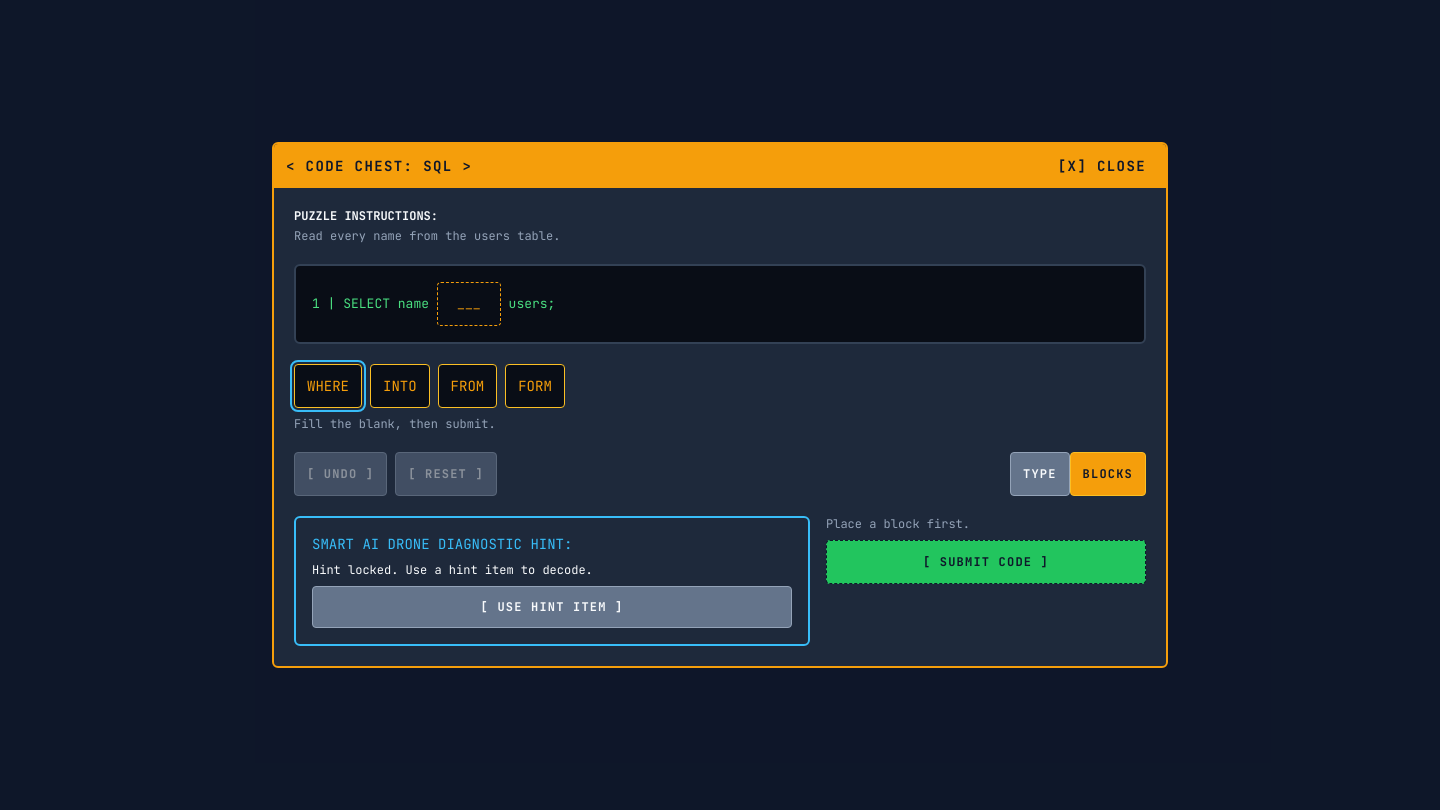
Scenario: ChallengeTerminal: Blocks mode, Undo and Reset › Ctrl+Z outside the text box runs Undo
Click the button "WHERE".
click(328, 386)  # box [294, 364, 362, 408]
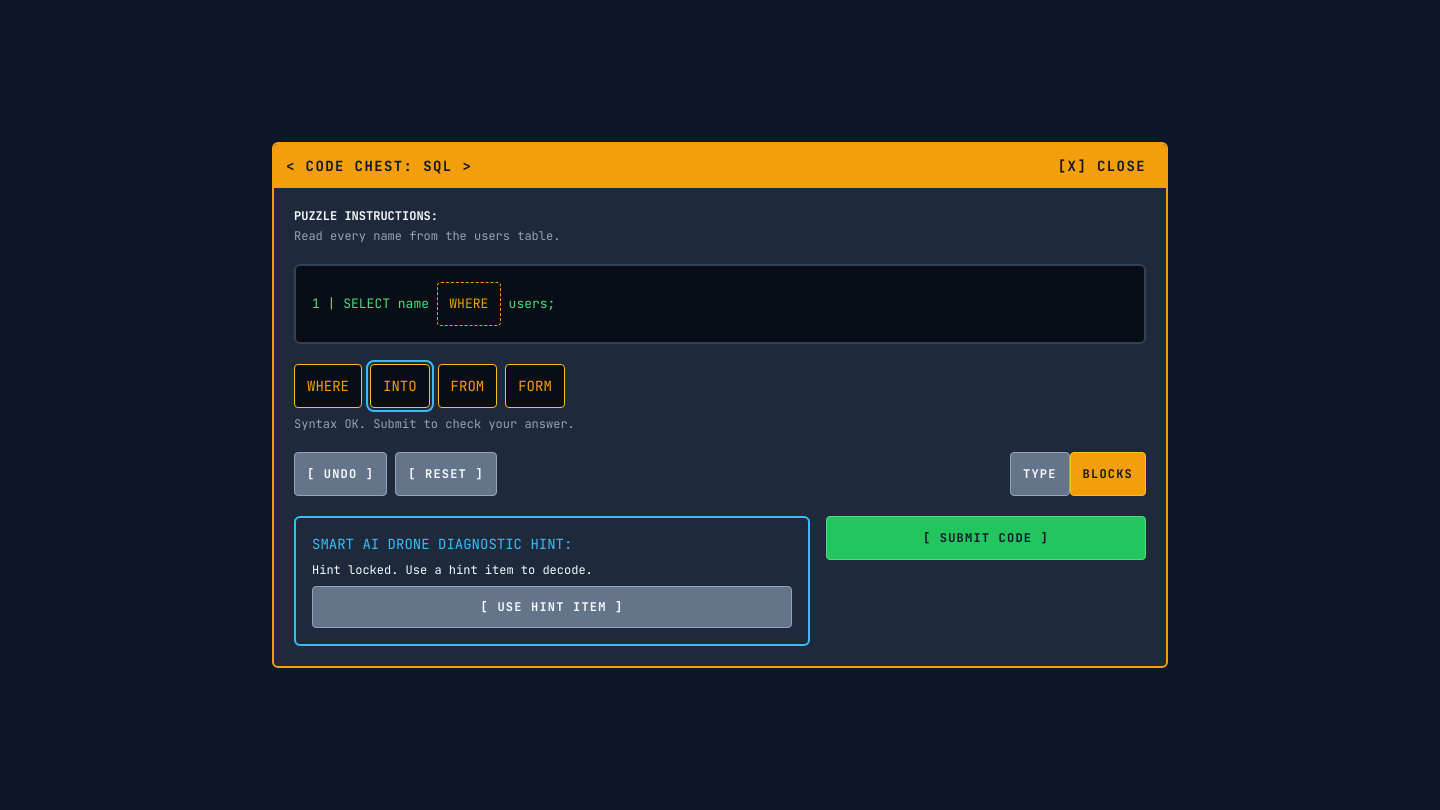
Type keys "{Control>}z{/Control}"
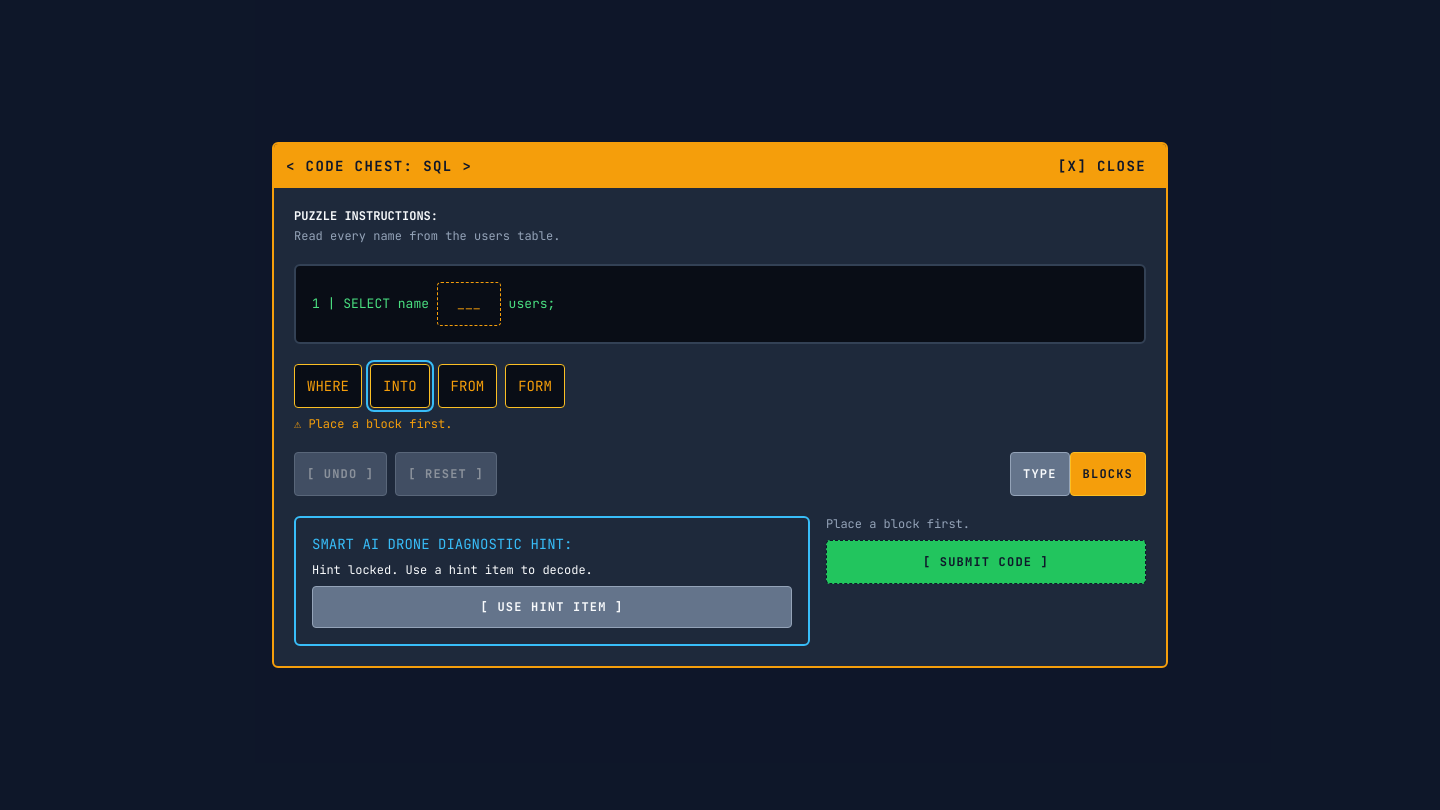
expect the button with test id "block-slot" reads "___": met, box [437, 282, 501, 326]
